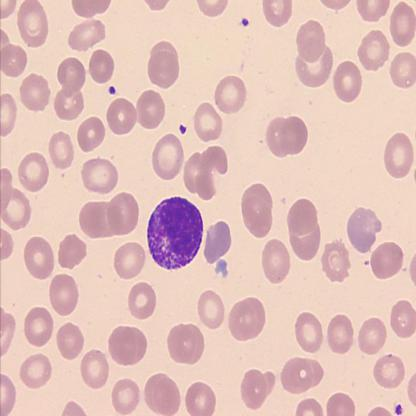Metamyelocyte: (145, 193, 206, 271)
